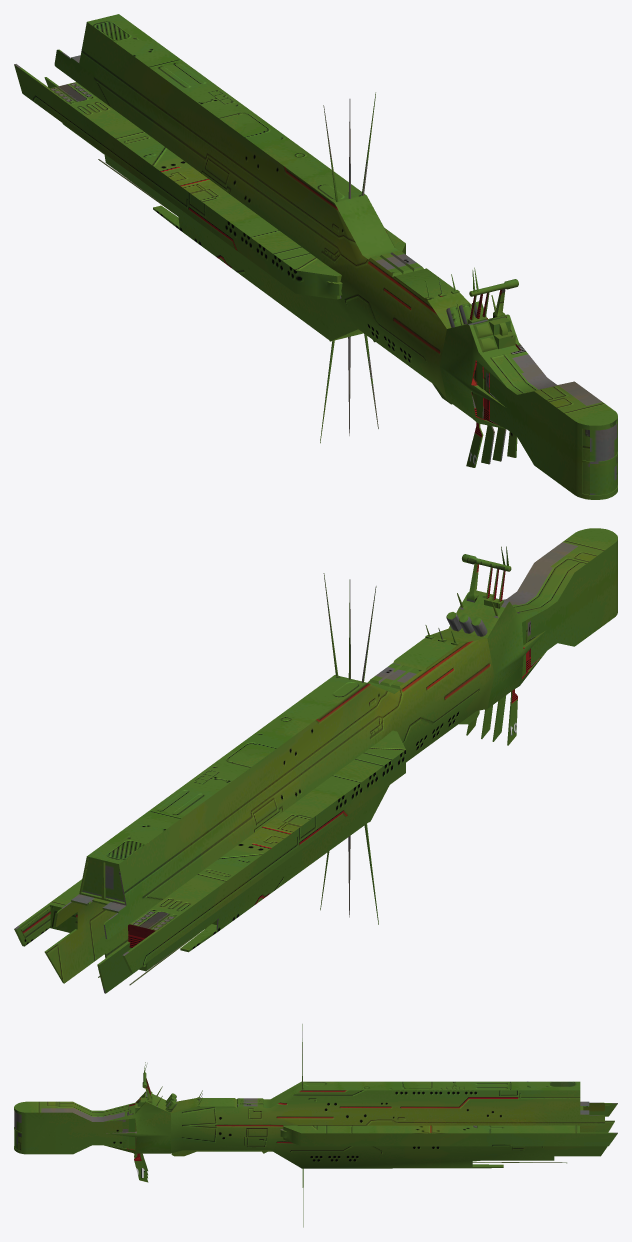
The model's file is FPA_CommandShip_Epimetheus.obj.
The picture shows the model from 3 angles, top to bottom: view 1: azimuth 30°, elevation 25°; view 2: azimuth 150°, elevation 25°; view 3: azimuth 270°, elevation 25°; orthographic projection. The views are drawn at different scales.
Parts seen in each view (by area): view 1: FPA_CommandShip_Epimetheus; view 2: FPA_CommandShip_Epimetheus; view 3: FPA_CommandShip_Epimetheus.
Boxes of the visible parts, x1,y1,x2,y2 form: FPA_CommandShip_Epimetheus: (14, 14, 617, 499); FPA_CommandShip_Epimetheus: (14, 528, 617, 993); FPA_CommandShip_Epimetheus: (14, 1024, 617, 1227).
Size of the model in its own units: 114 by 332 by 959.
